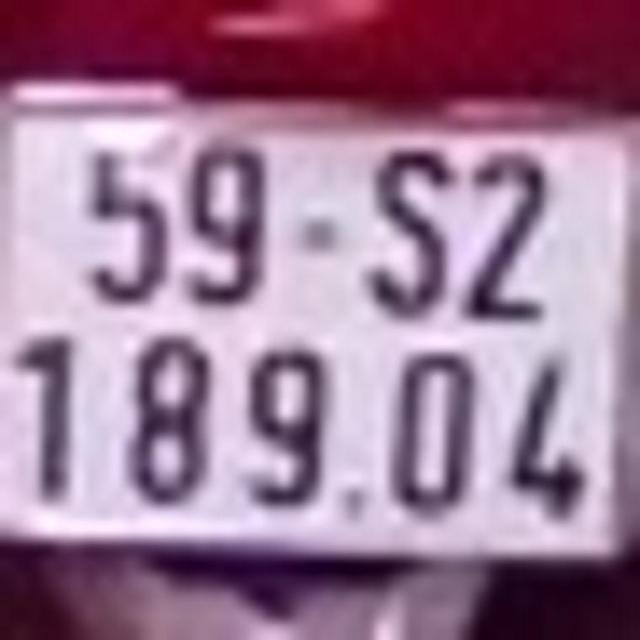0: (388, 339, 484, 520)
1: (7, 326, 78, 511)
2: (465, 141, 553, 322)
4: (501, 339, 600, 520)
5: (78, 130, 178, 305)
8: (121, 322, 218, 511)
9: (240, 331, 332, 519), (184, 134, 270, 308)
S: (364, 137, 458, 321)
